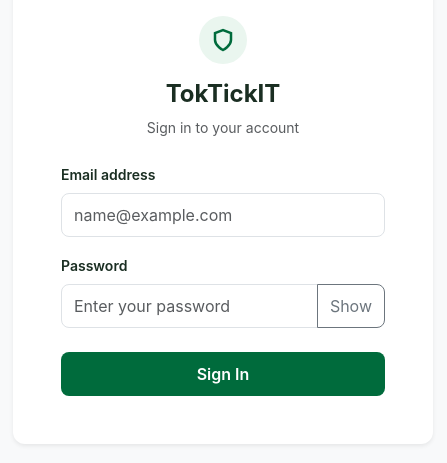
Test: Login Component (UI-01) › toggles password visibility when show/hide button is clicked
Click the button with aria-label "Show password": (351, 306) [317,284,385,328]
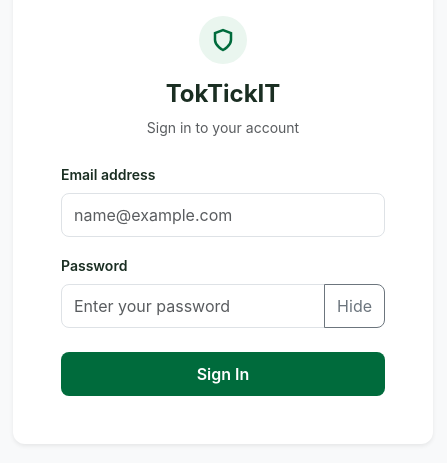
Check: the button with aria-label "Hide password" is shown, box [324,284,385,328]
